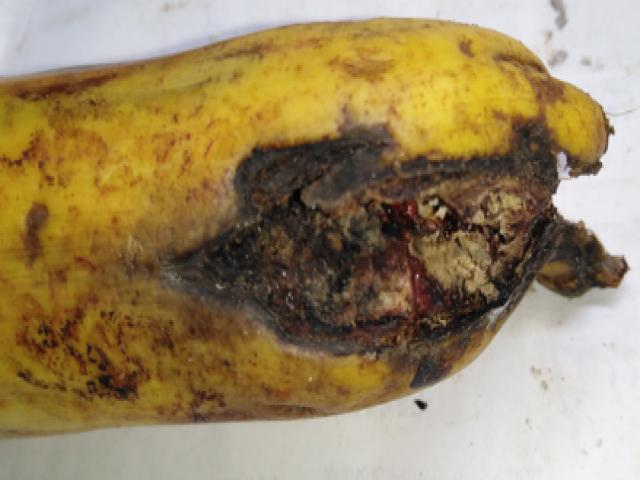ripe: (0, 48, 166, 445)
rotten: (109, 71, 594, 394)
